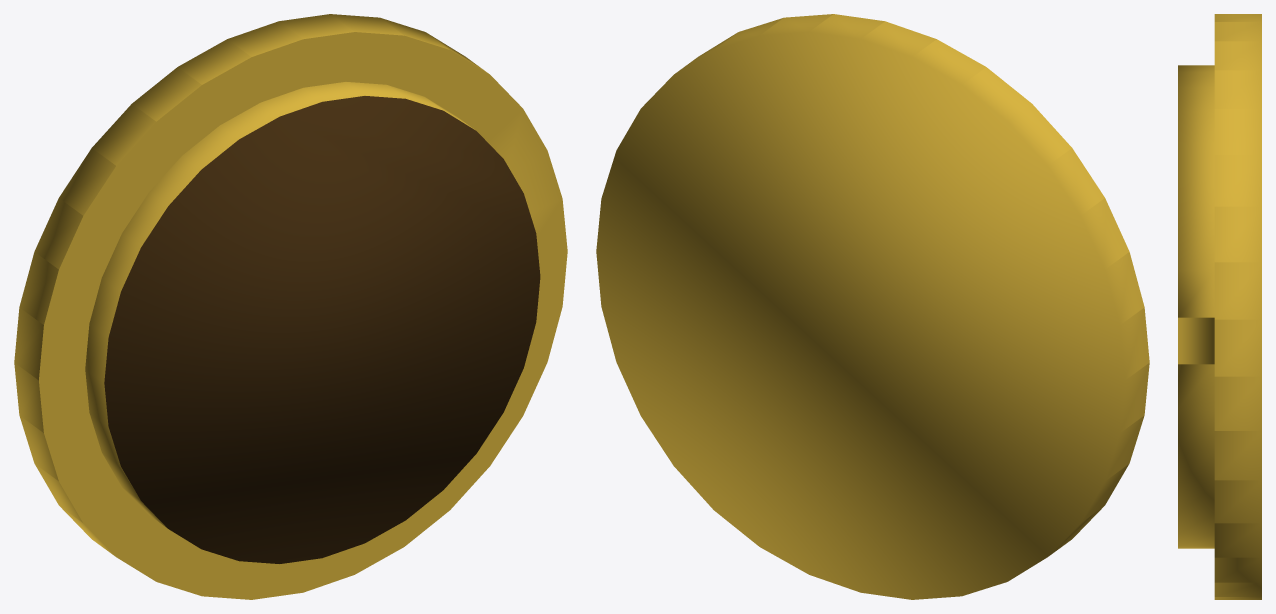
File: Shield2.fbx
3 renders of one model, left to right at view 1: azimuth 30°, elevation 25°; view 2: azimuth 150°, elevation 25°; view 3: azimuth 270°, elevation 25°, orthographic. The views are drawn at different scales.
Visible parts, largest first — view 1: Circle; view 2: Circle; view 3: Circle.
Part boxes in pixels (x1=…): Circle: x1=14, y1=14, x2=567, y2=599; Circle: x1=596, y1=14, x2=1149, y2=599; Circle: x1=1178, y1=14, x2=1261, y2=599.
Bounding box in the file's own units: 200 × 200 × 28.63.
